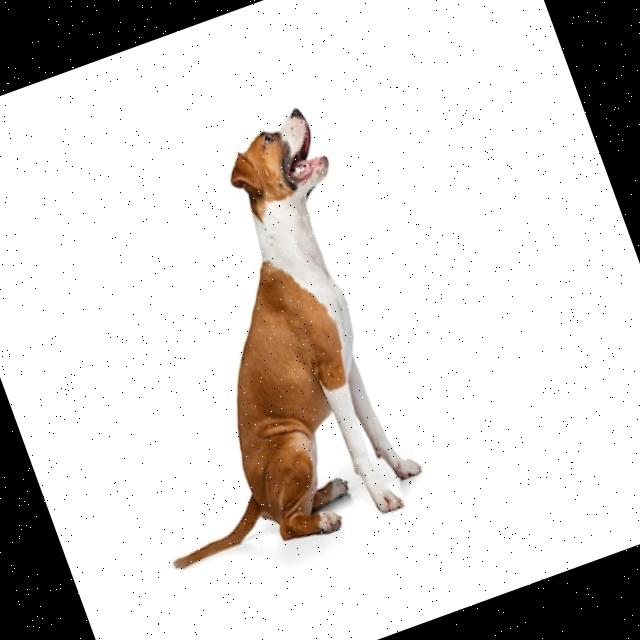Dog: (39, 102, 450, 589)
